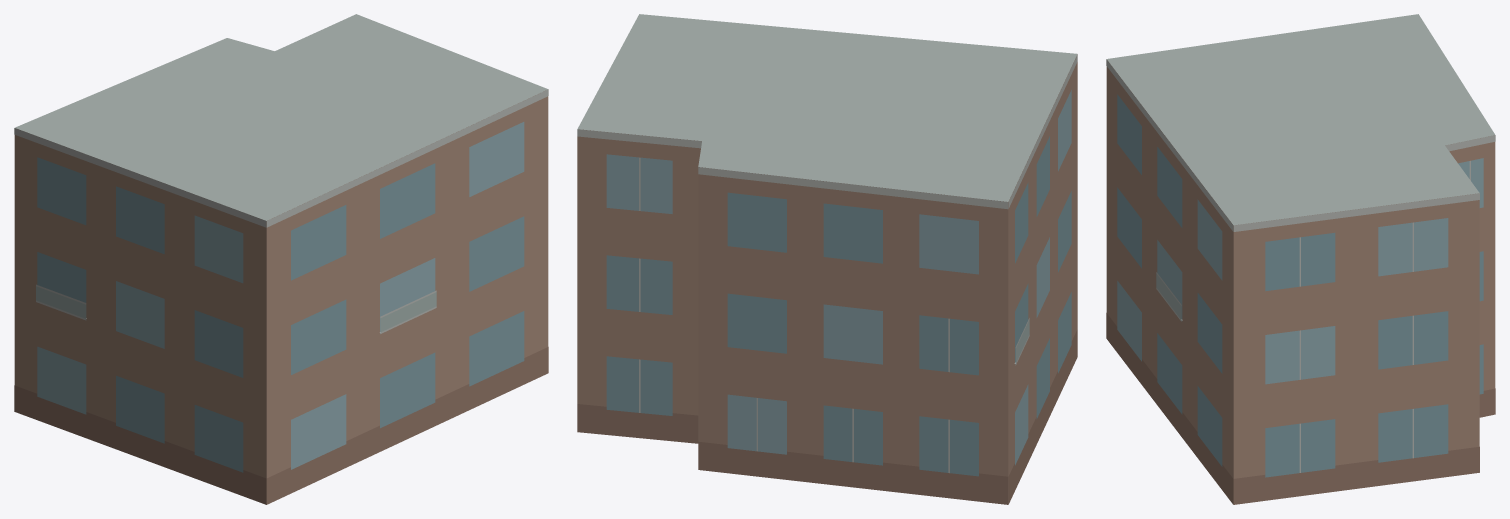
The model's file is survey-upis-32624703.glb.
The picture shows the model from 3 angles, left to right: view 1: azimuth 30°, elevation 25°; view 2: azimuth 150°, elevation 25°; view 3: azimuth 270°, elevation 25°; orthographic projection. The views are drawn at different scales.
Visible parts, largest first — view 1: survey-upis-32624703.tmp; view 2: survey-upis-32624703.tmp; view 3: survey-upis-32624703.tmp.
Part boxes in pixels (x1=…): survey-upis-32624703.tmp: x1=14, y1=14, x2=548, y2=504; survey-upis-32624703.tmp: x1=577, y1=14, x2=1077, y2=504; survey-upis-32624703.tmp: x1=1106, y1=14, x2=1495, y2=504.
Size of the model in its own units: 16.39 by 10.1 by 12.75.
